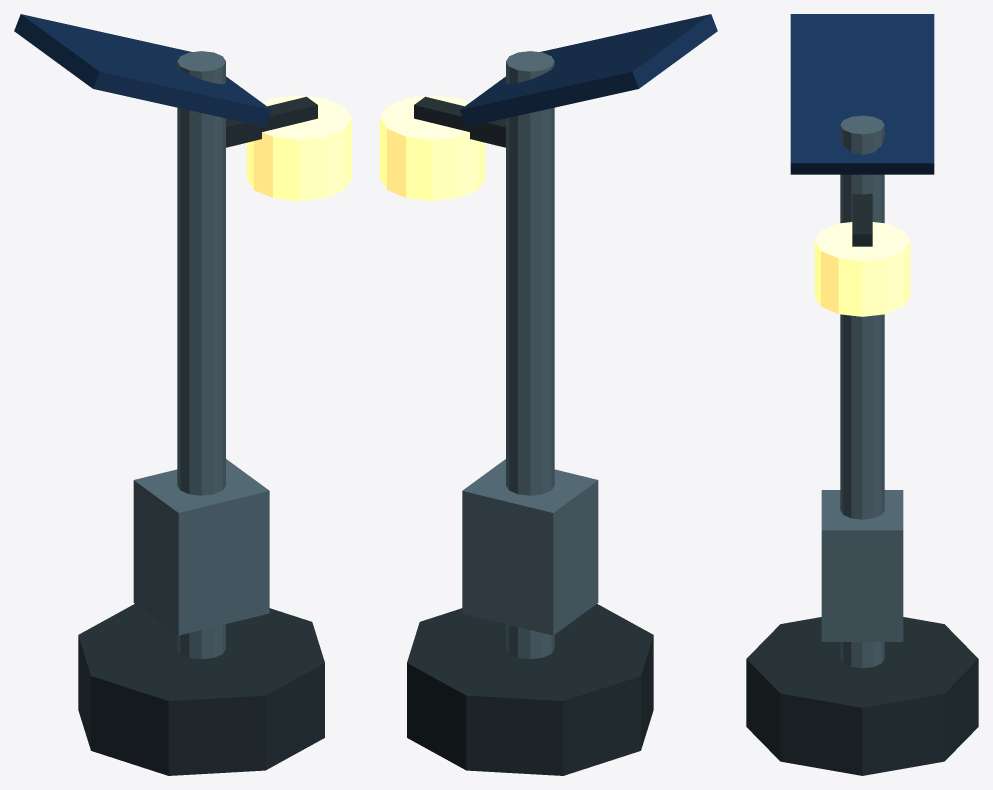
File: solar_lamp.glb
3 views of the same model, side by side, from view 1: azimuth 30°, elevation 25°; view 2: azimuth 150°, elevation 25°; view 3: azimuth 270°, elevation 25° (orthographic). The views are drawn at different scales.
Parts seen in each view (by area): view 1: solar_lamp; view 2: solar_lamp; view 3: solar_lamp.
Boxes of the visible parts, bbox=[...] form: solar_lamp: bbox=[14, 14, 351, 775]; solar_lamp: bbox=[380, 14, 717, 775]; solar_lamp: bbox=[746, 14, 978, 775].
Size of the model in its own units: 0.8951 by 2.1 by 0.68.
